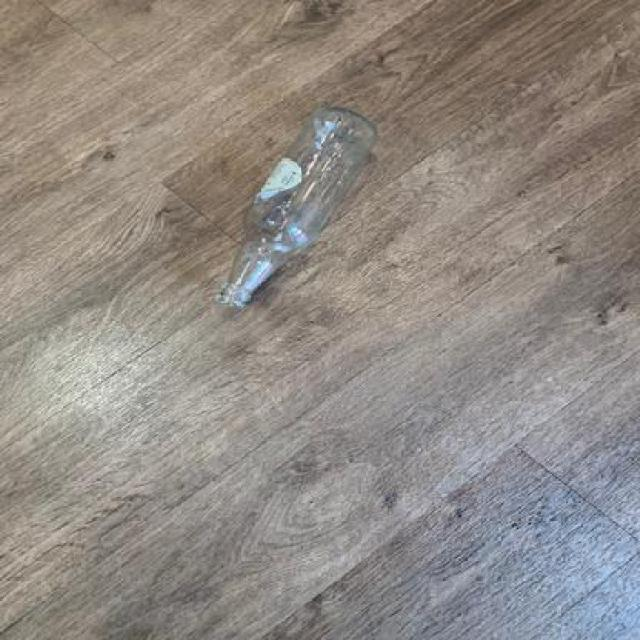trash: (213, 103, 385, 314)
